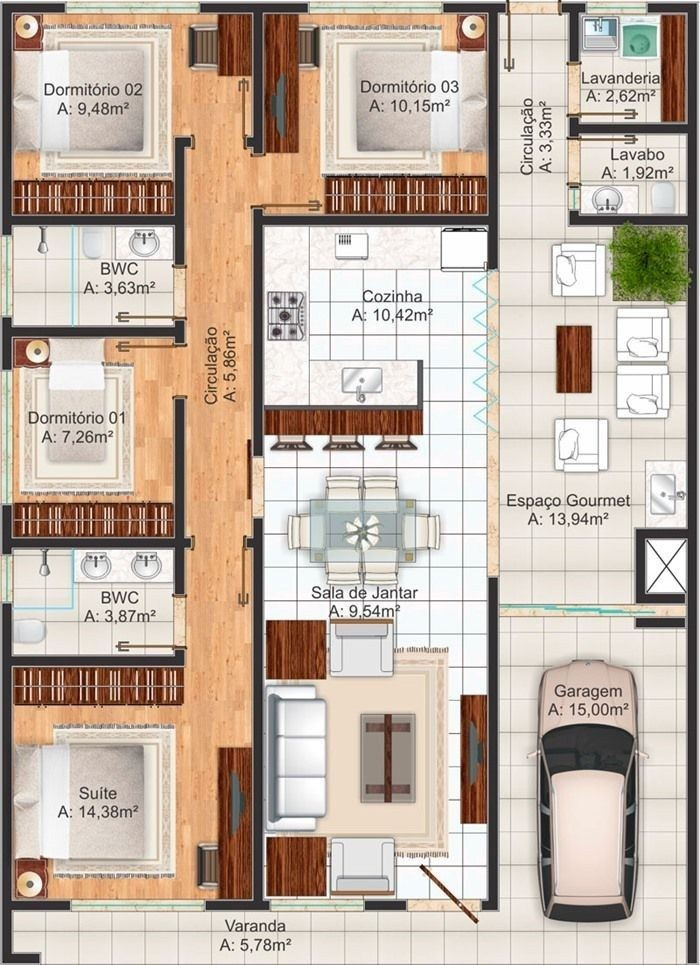room: (254, 215, 499, 912), (1, 654, 265, 910), (1, 2, 263, 225), (3, 4, 265, 227), (253, 5, 498, 228), (1, 326, 185, 548), (1, 538, 184, 665), (1, 213, 188, 336), (567, 2, 700, 134), (566, 123, 697, 227)
wall: (253, 520, 263, 908), (490, 581, 497, 901), (175, 400, 182, 592), (636, 531, 645, 603), (207, 901, 267, 910), (636, 617, 684, 627), (365, 900, 406, 911), (637, 593, 683, 602), (636, 593, 682, 602), (638, 528, 684, 537), (246, 538, 261, 547)
